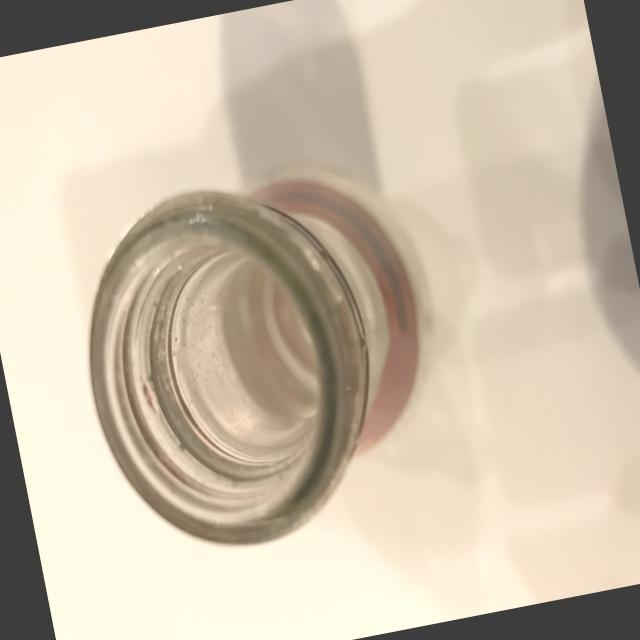Glass: (39, 135, 472, 582)
